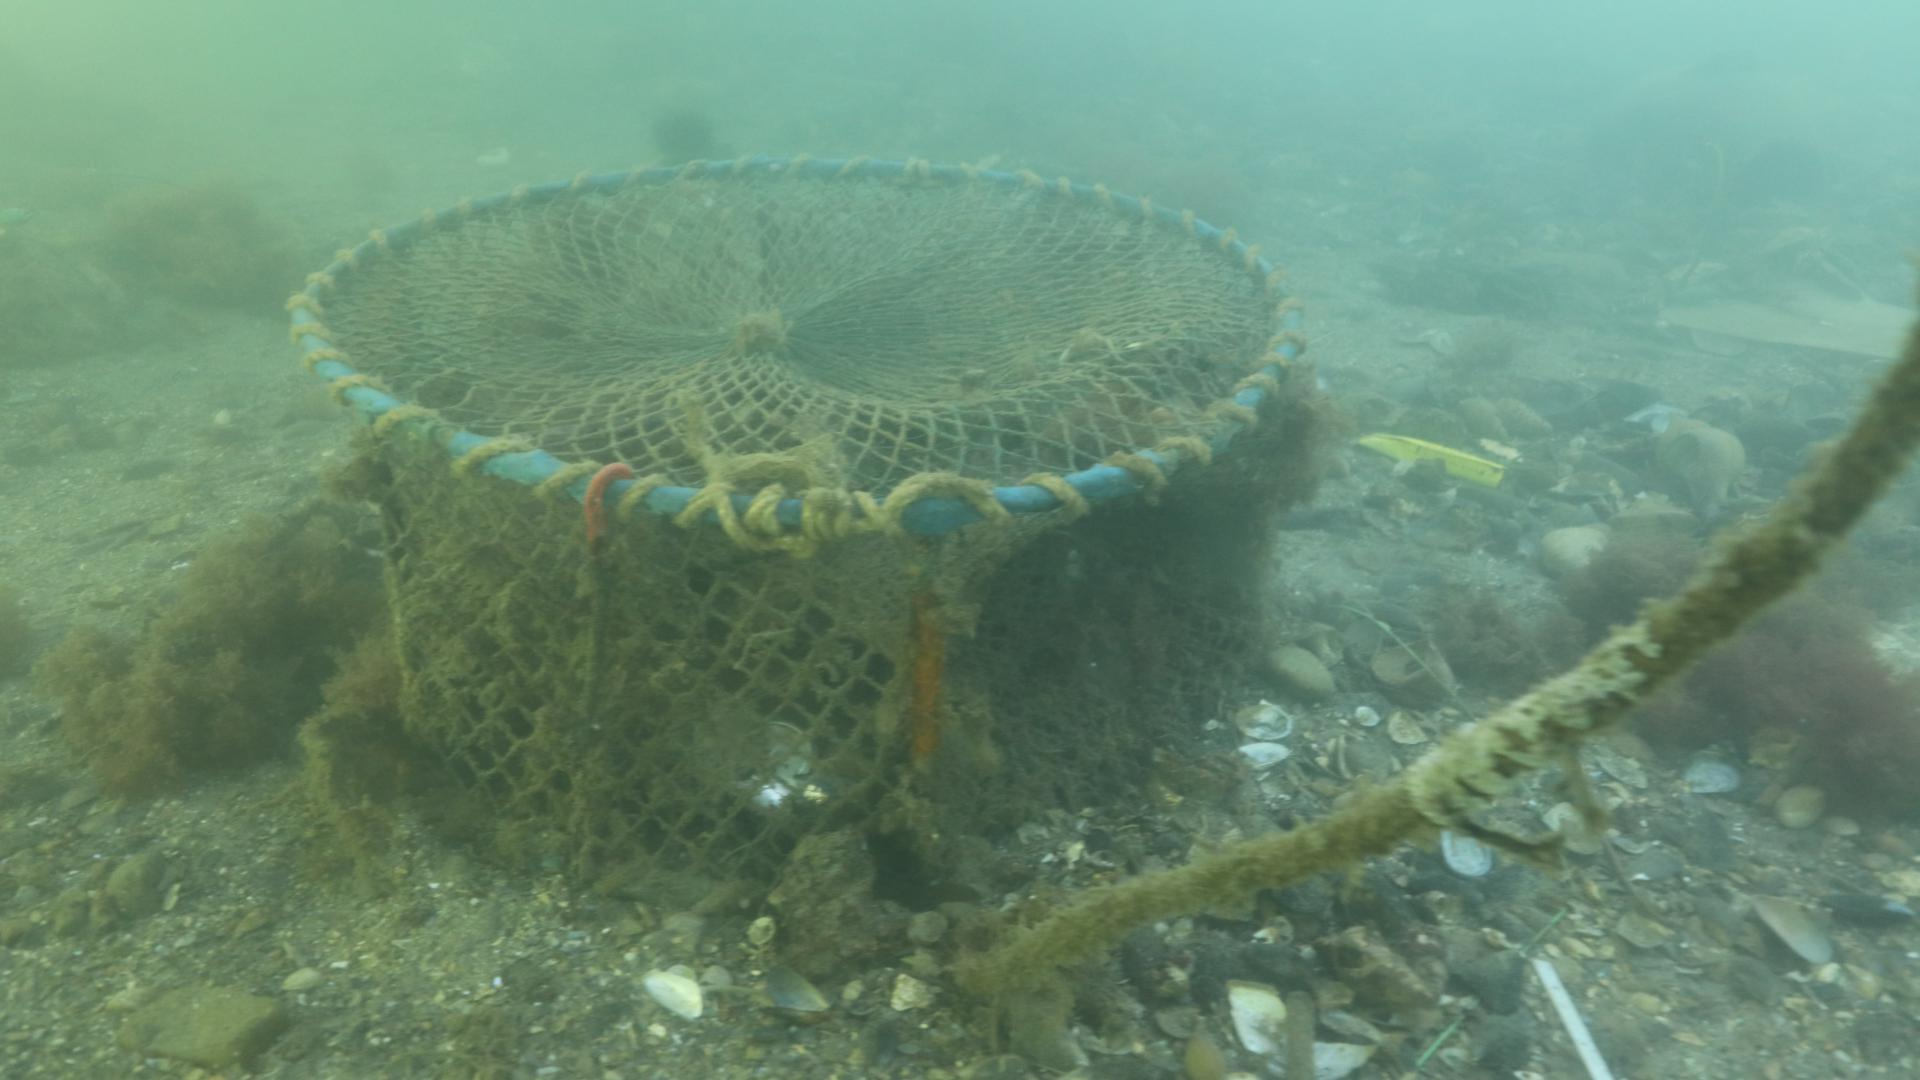circular fish trap: (280, 153, 1305, 916)
